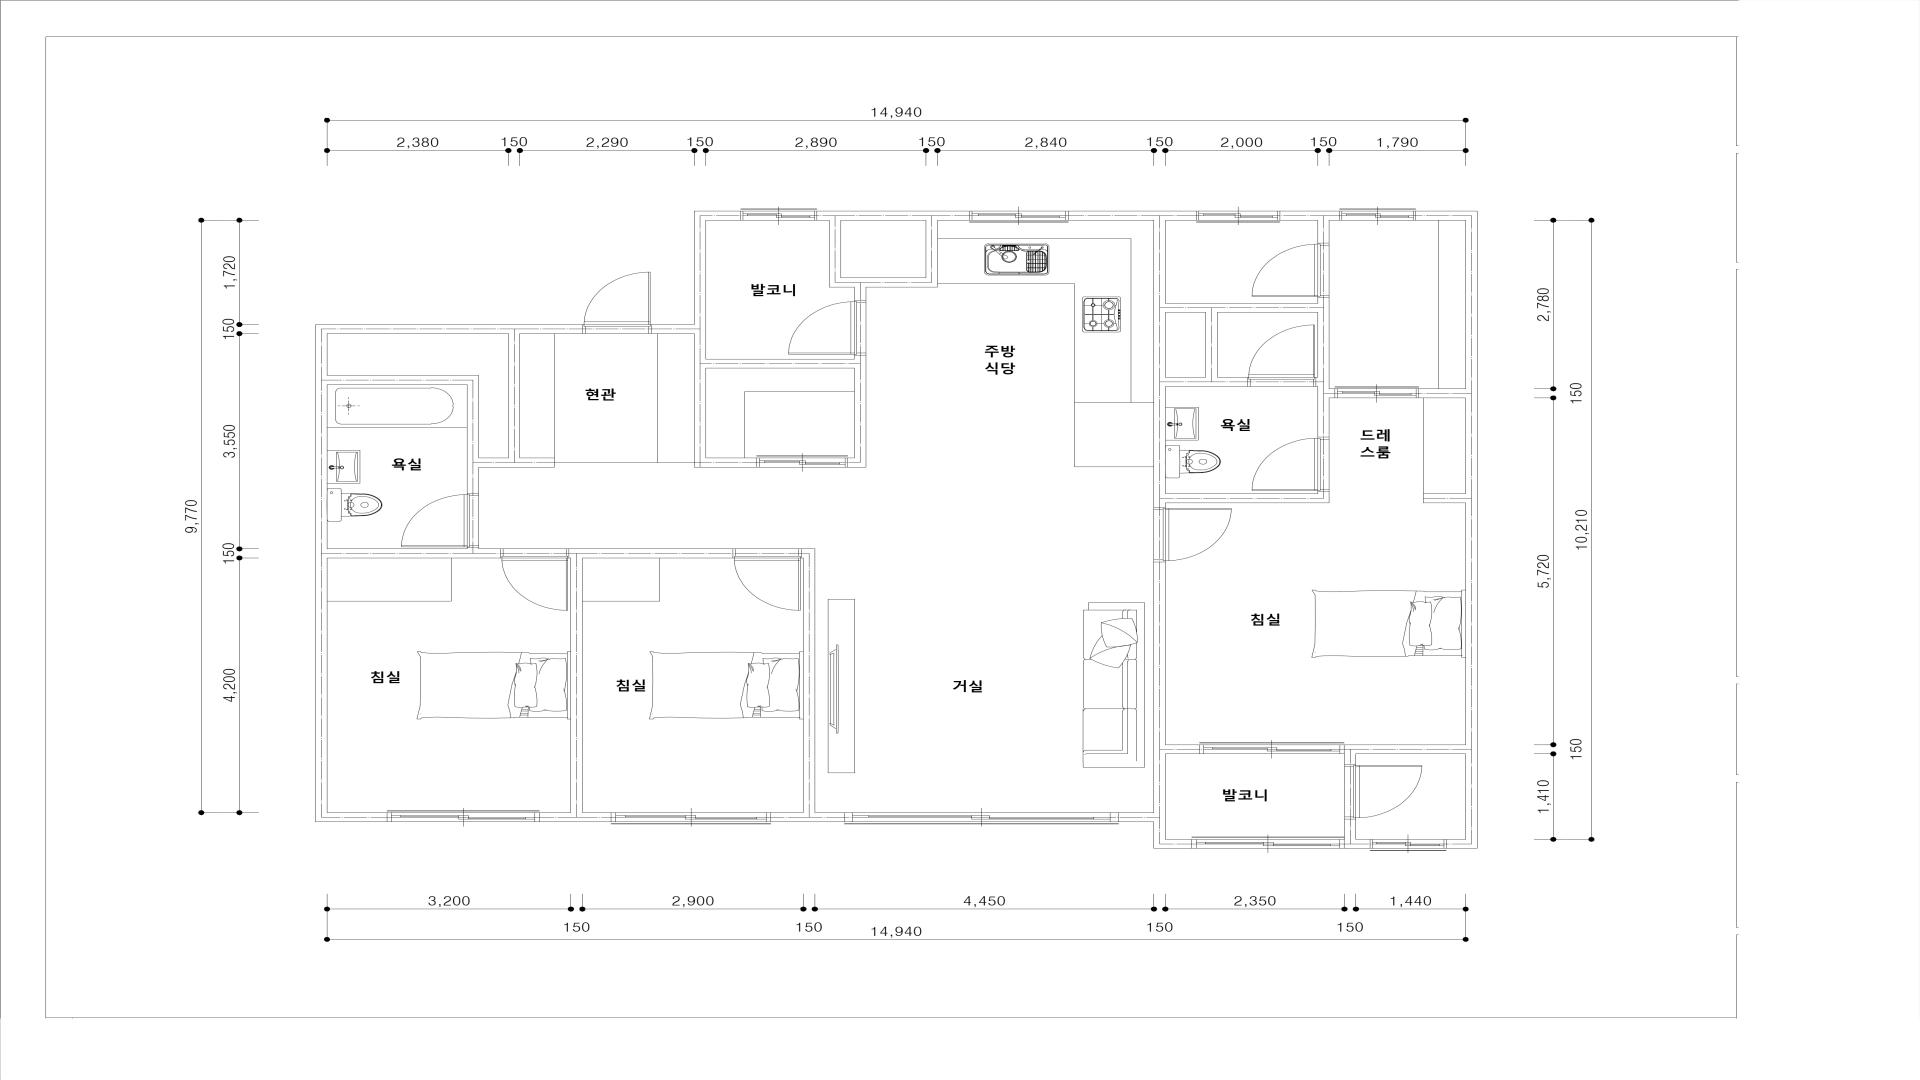door: (732, 549, 802, 612), (1250, 243, 1329, 298), (1251, 436, 1329, 492), (787, 301, 866, 355), (1344, 765, 1423, 819), (500, 549, 568, 611), (583, 272, 651, 334), (1247, 324, 1316, 386), (1154, 508, 1232, 562), (401, 493, 479, 547), (1200, 745, 1344, 754), (757, 458, 848, 467), (1335, 389, 1419, 398)
wall: (568, 549, 732, 812), (1423, 398, 1477, 848), (315, 549, 388, 822), (705, 355, 866, 467), (327, 375, 479, 493), (1166, 297, 1329, 377), (1415, 211, 1477, 398), (1154, 562, 1200, 812), (651, 211, 741, 334), (479, 334, 555, 467), (829, 220, 938, 301), (694, 334, 757, 467), (800, 549, 815, 812), (1154, 220, 1166, 508), (315, 324, 327, 549), (1118, 812, 1192, 848), (1344, 745, 1465, 765), (327, 324, 583, 334), (1316, 313, 1335, 438), (1166, 491, 1329, 504), (1279, 211, 1340, 243), (327, 547, 501, 558), (816, 211, 969, 220), (1068, 211, 1196, 220), (1344, 819, 1370, 848), (1166, 377, 1247, 386), (770, 812, 844, 822), (539, 812, 611, 822)
window: (844, 812, 1118, 822), (1192, 839, 1344, 849), (611, 812, 770, 822), (388, 812, 539, 822), (969, 211, 1068, 220), (1196, 211, 1280, 220), (1370, 839, 1447, 848), (1340, 211, 1415, 220), (741, 211, 816, 220)
